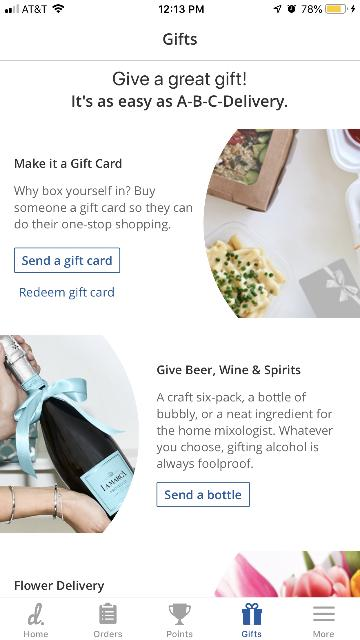Bottom_Navigation: (0, 598, 360, 640)
Icon: (169, 603, 191, 625), (242, 602, 262, 624), (28, 602, 44, 626), (100, 602, 116, 624), (314, 607, 334, 621)
Image: (203, 128, 359, 318), (0, 335, 140, 533), (212, 550, 360, 596)
Text: (156, 392, 332, 471), (72, 72, 288, 110), (14, 186, 192, 232), (158, 365, 300, 377), (20, 286, 114, 300), (22, 256, 112, 268), (14, 580, 103, 592), (15, 158, 121, 168), (165, 489, 241, 498), (163, 32, 197, 46), (94, 631, 122, 637), (24, 631, 48, 637), (168, 631, 192, 637), (314, 631, 334, 637), (242, 631, 262, 637)
TextButton: (14, 248, 120, 272), (156, 482, 250, 506)
TextImageButton: (94, 602, 122, 638), (24, 602, 48, 638), (168, 603, 192, 637), (241, 603, 262, 637), (314, 606, 334, 638)
UpperTaskBar: (0, 0, 360, 14)
